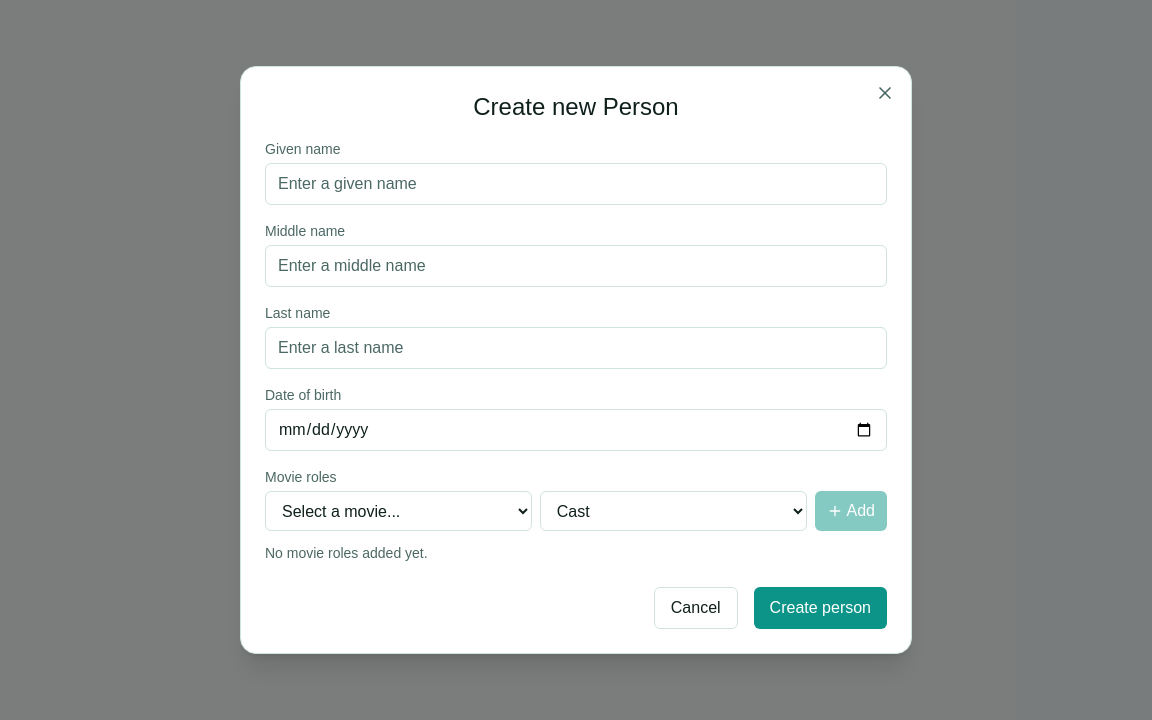
Test: PersonFullForm › adds and removes a movie role before submitting
Select "Movie One" in the 1st dropdown: (398, 511) [265, 491, 532, 531]
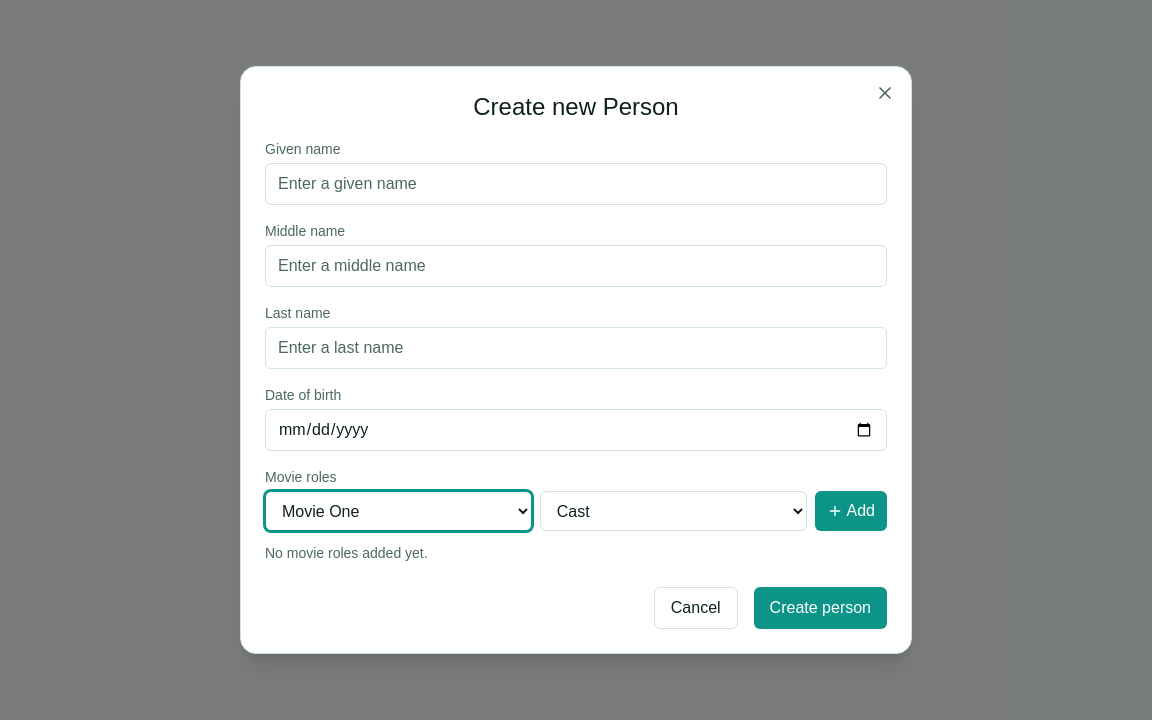
Click the button "Add": click(851, 511) [814, 491, 887, 531]
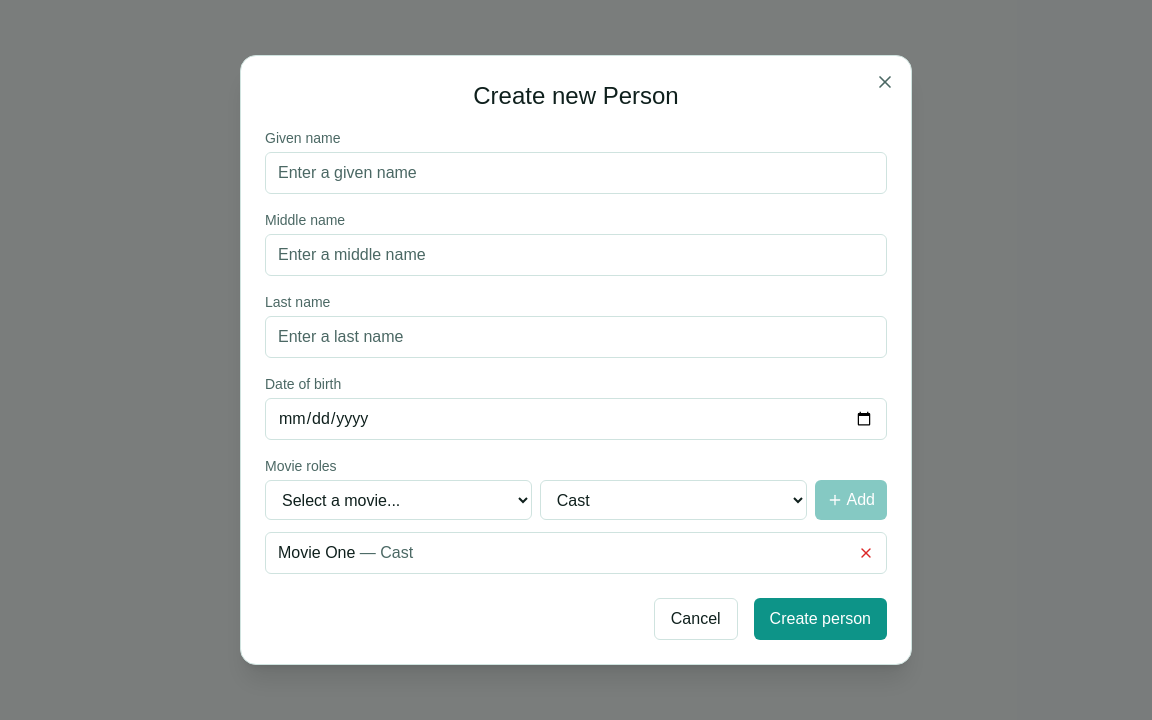
Now the text "Movie One — Cast" is shown, box [278, 541, 413, 565]
Click the button named "Remove Movie One": click(866, 553) [858, 545, 874, 561]
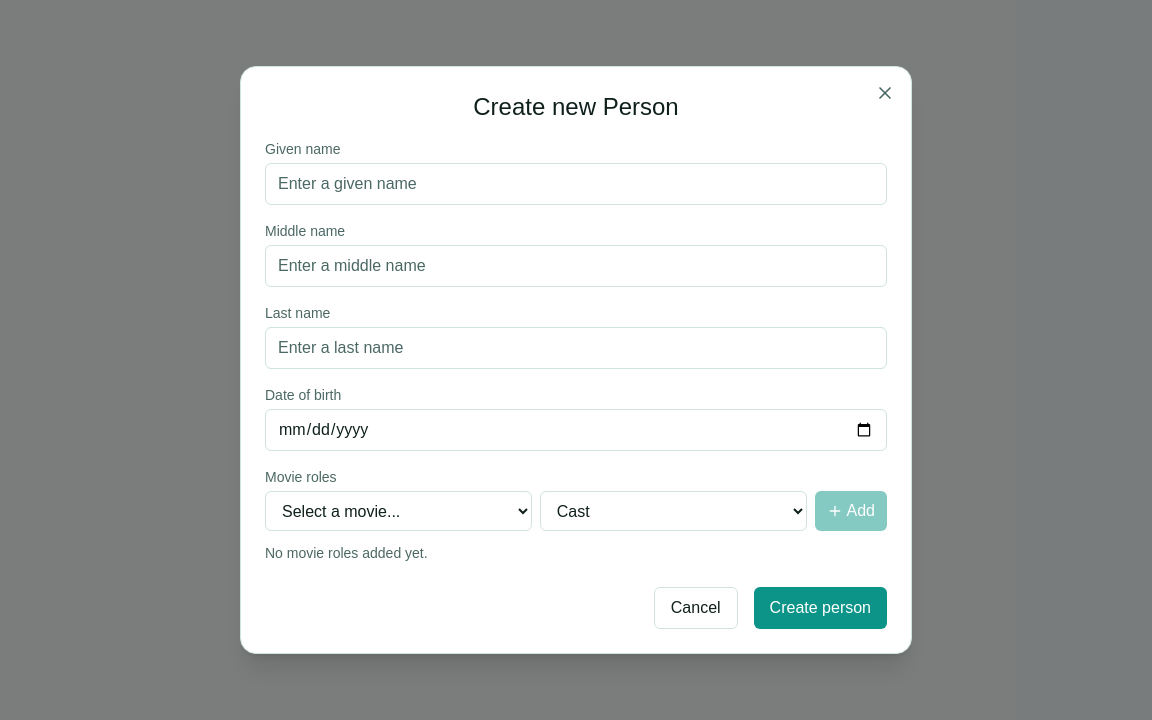
Now the list item "No movie roles added yet." is shown, box [265, 545, 428, 561]
